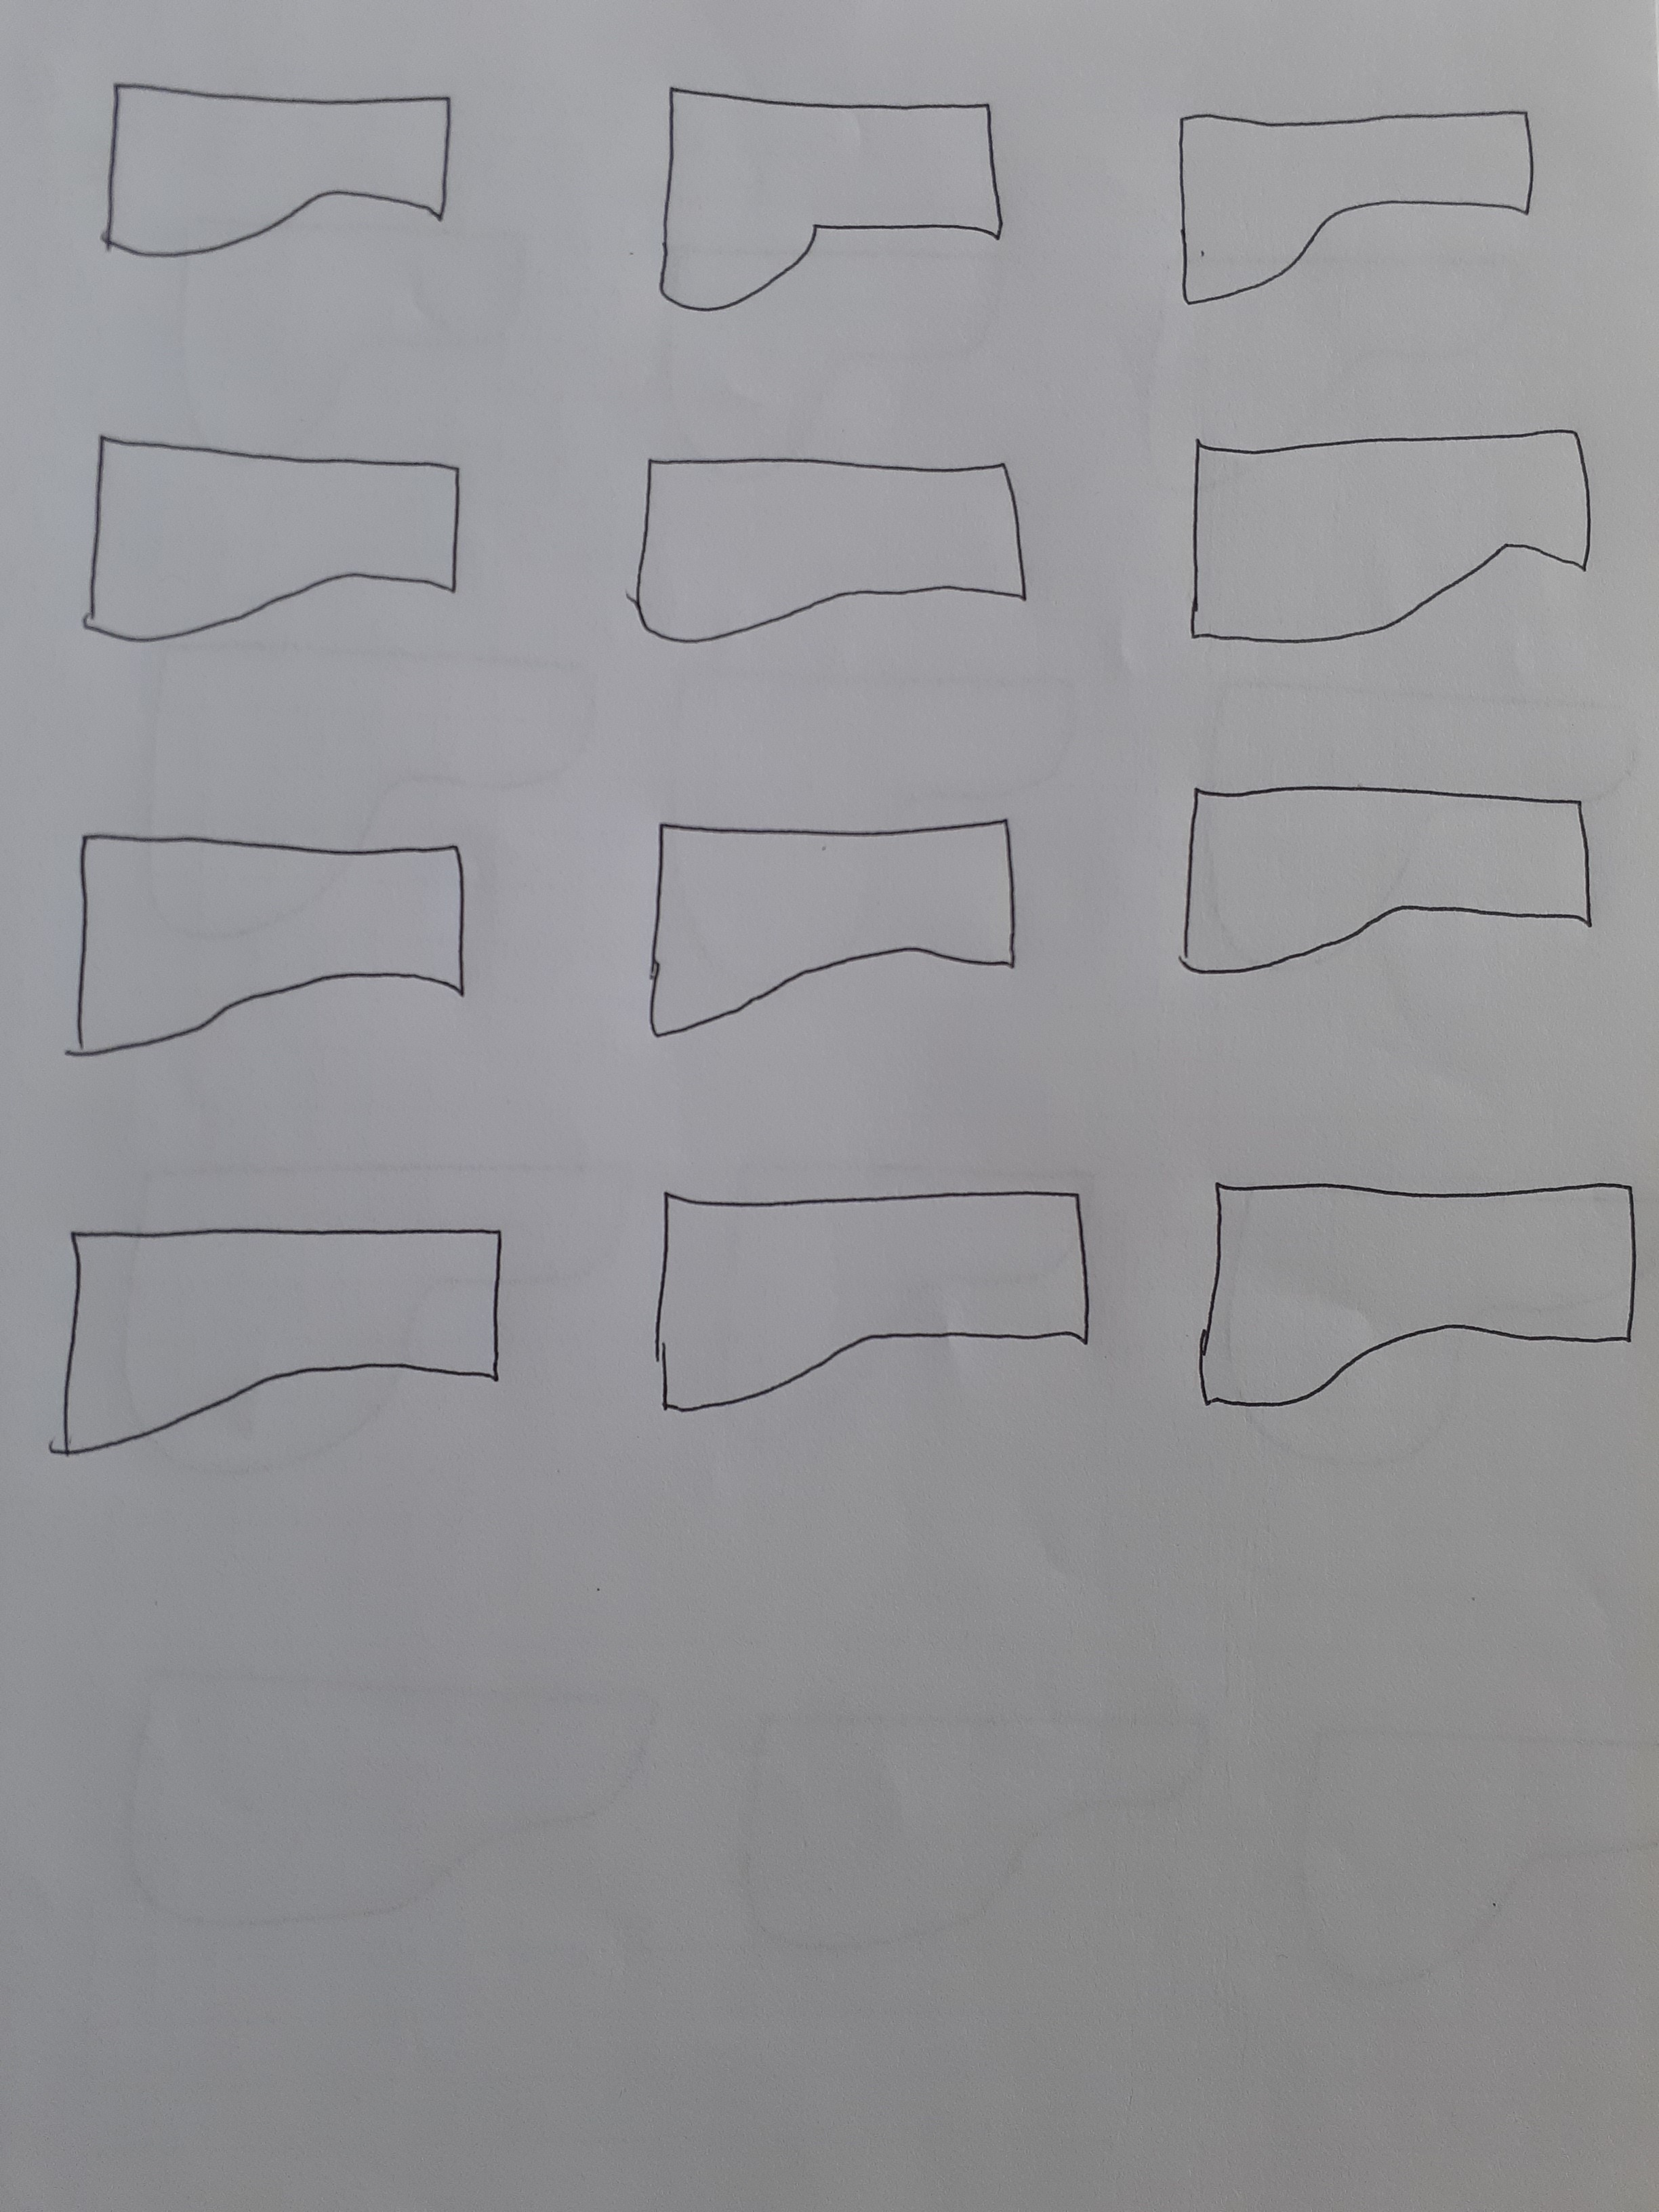print: (42, 1191, 537, 1512), (624, 1150, 1154, 1439), (1176, 1146, 1650, 1442), (58, 784, 481, 1099), (1147, 42, 1567, 340), (634, 765, 1061, 1049), (1162, 394, 1617, 658), (1154, 758, 1624, 1001), (617, 421, 1068, 672), (638, 52, 1037, 327), (56, 415, 479, 672), (82, 59, 479, 300)
